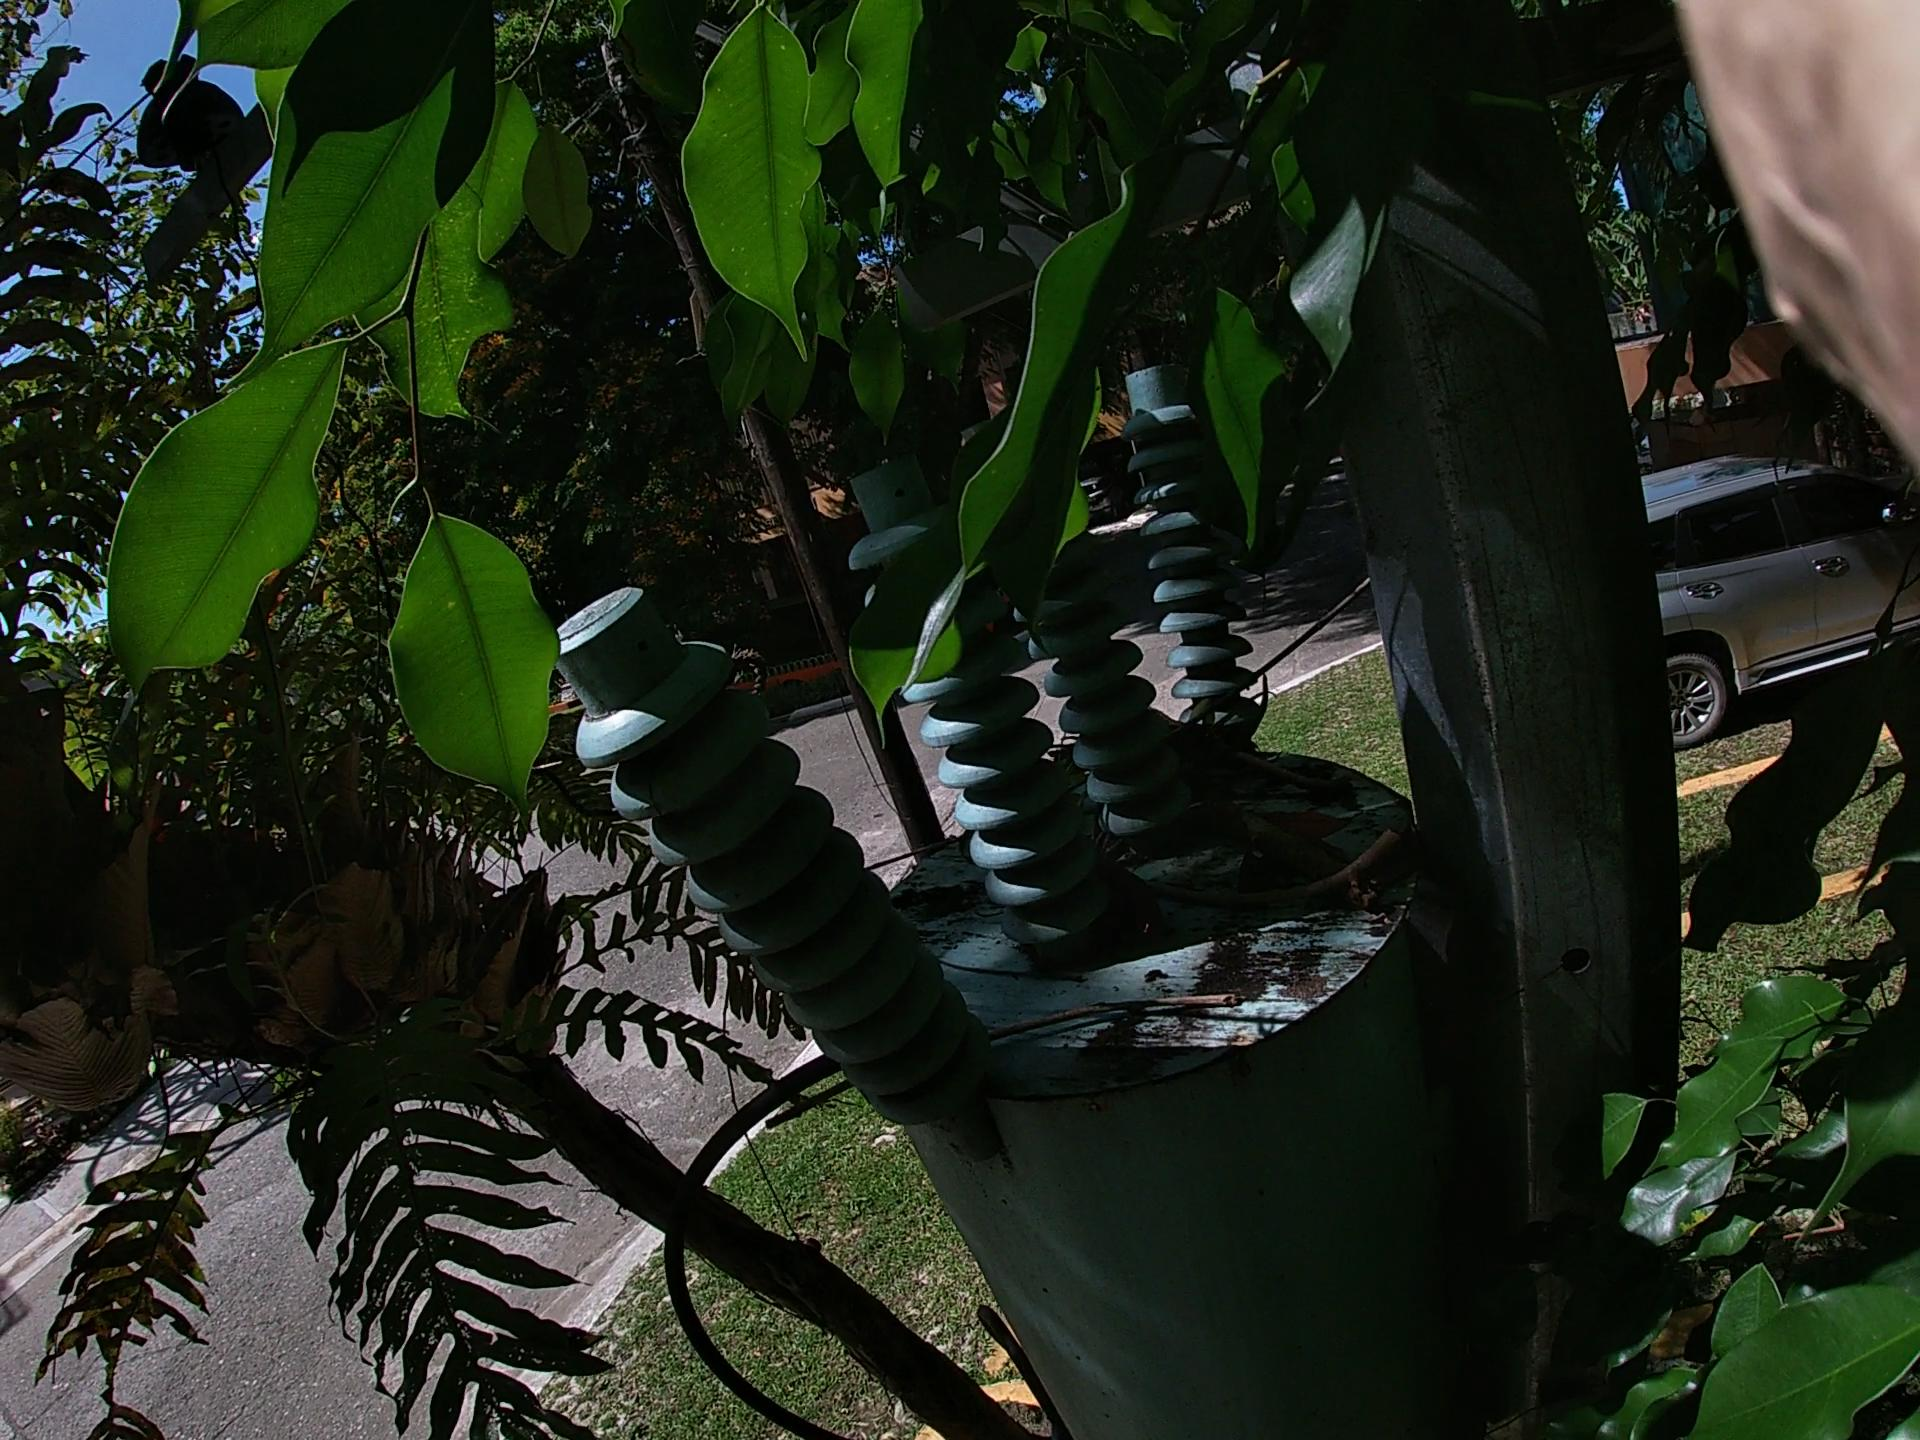leaf: (1228, 824, 1293, 902)
tree branch: (562, 555, 1377, 1234), (813, 973, 1214, 1134), (1092, 826, 1394, 985), (1152, 720, 1398, 864)
